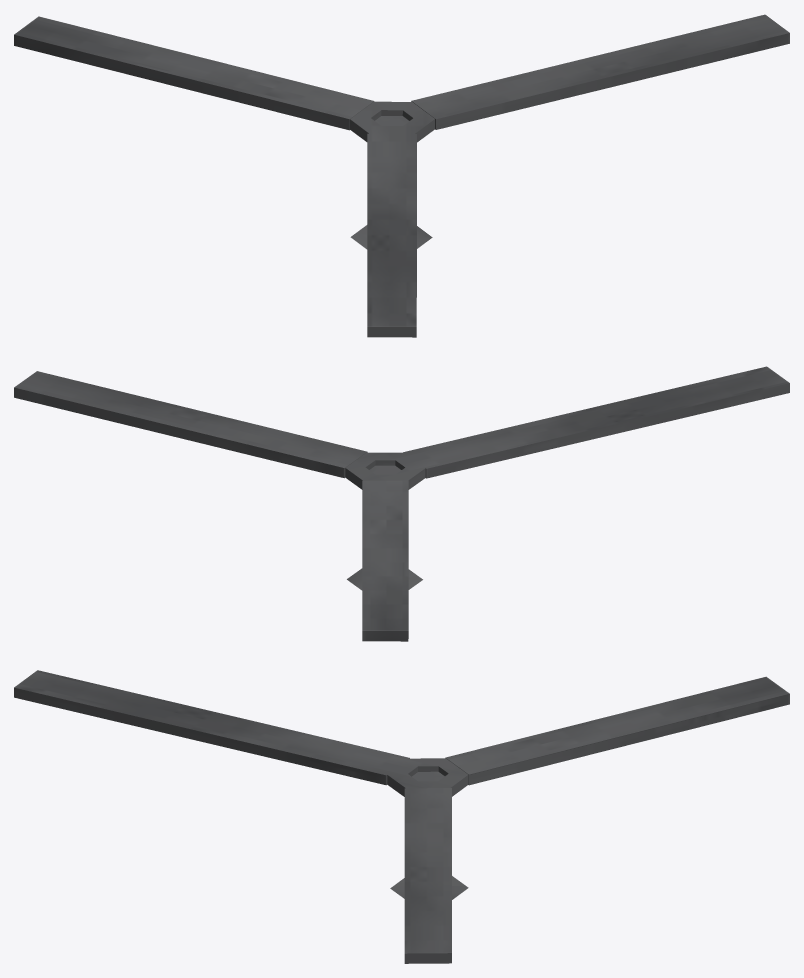
File: Helicopter__Big_blades.obj
3 renders of one model, top to bottom at view 1: azimuth 30°, elevation 25°; view 2: azimuth 150°, elevation 25°; view 3: azimuth 270°, elevation 25°, orthographic. The views are drawn at different scales.
Parts seen in each view (by area): view 1: elice_mare_Elicopter_Complet.001; view 2: elice_mare_Elicopter_Complet.001; view 3: elice_mare_Elicopter_Complet.001.
Boxes of the visible parts, bbox=[...] form: elice_mare_Elicopter_Complet.001: bbox=[14, 14, 789, 337]; elice_mare_Elicopter_Complet.001: bbox=[14, 366, 789, 641]; elice_mare_Elicopter_Complet.001: bbox=[14, 670, 789, 963].
Size of the model in its own units: 9.82 by 1.88 by 11.23.
